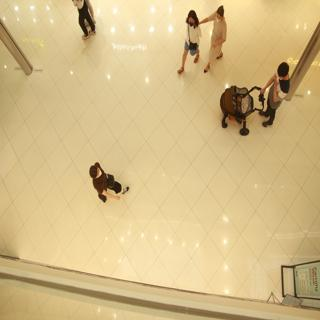person: (75, 151, 136, 216), (267, 48, 296, 135), (206, 3, 235, 71), (177, 5, 201, 74)
